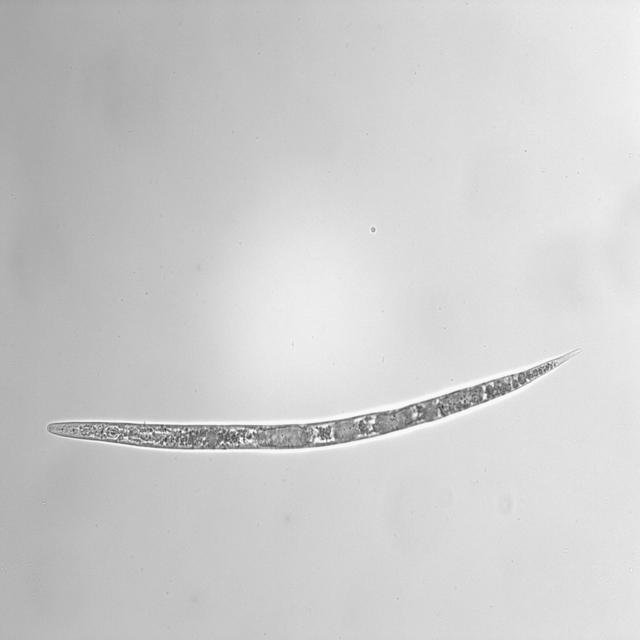Meloidogyne: (43, 344, 582, 456)
